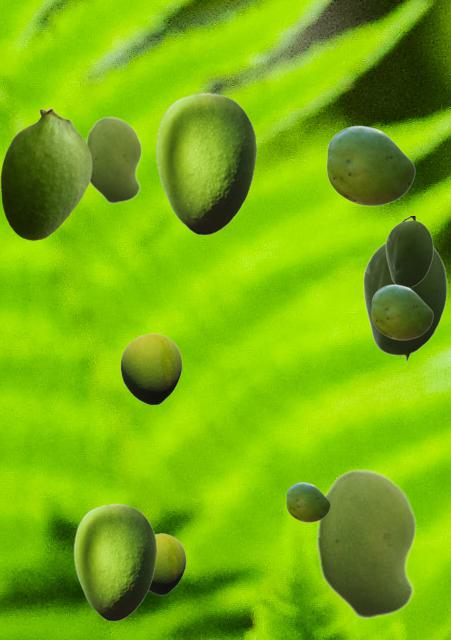green_mango: (316, 468, 416, 619), (155, 92, 256, 234), (0, 107, 91, 239), (362, 242, 446, 361), (73, 503, 156, 620), (326, 125, 414, 205), (86, 116, 141, 203), (120, 333, 181, 404), (385, 216, 432, 288), (371, 284, 432, 339), (149, 533, 185, 594), (286, 482, 329, 521)
